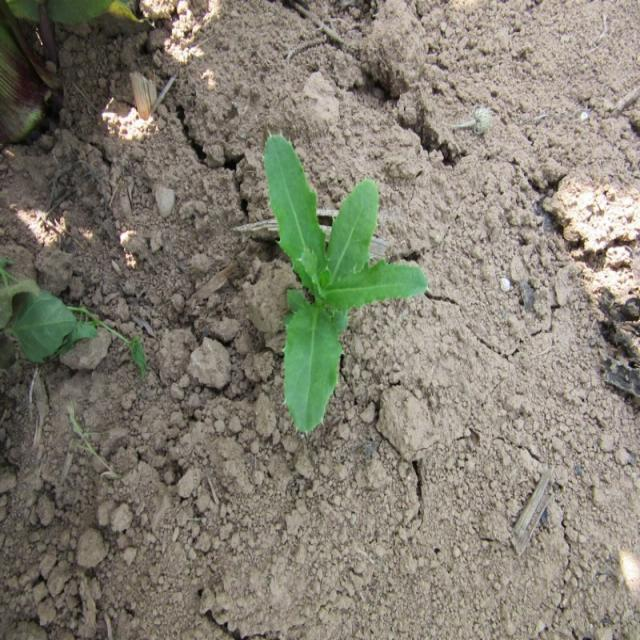cs: (260, 127, 430, 442)
